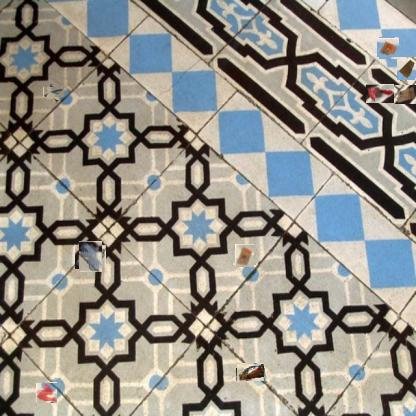dirty: (366, 84, 394, 103), (236, 363, 264, 381), (396, 56, 416, 80), (395, 83, 416, 104), (234, 245, 255, 266), (378, 38, 399, 58), (46, 85, 61, 100)
liquid: (77, 243, 104, 271), (37, 382, 57, 403)
